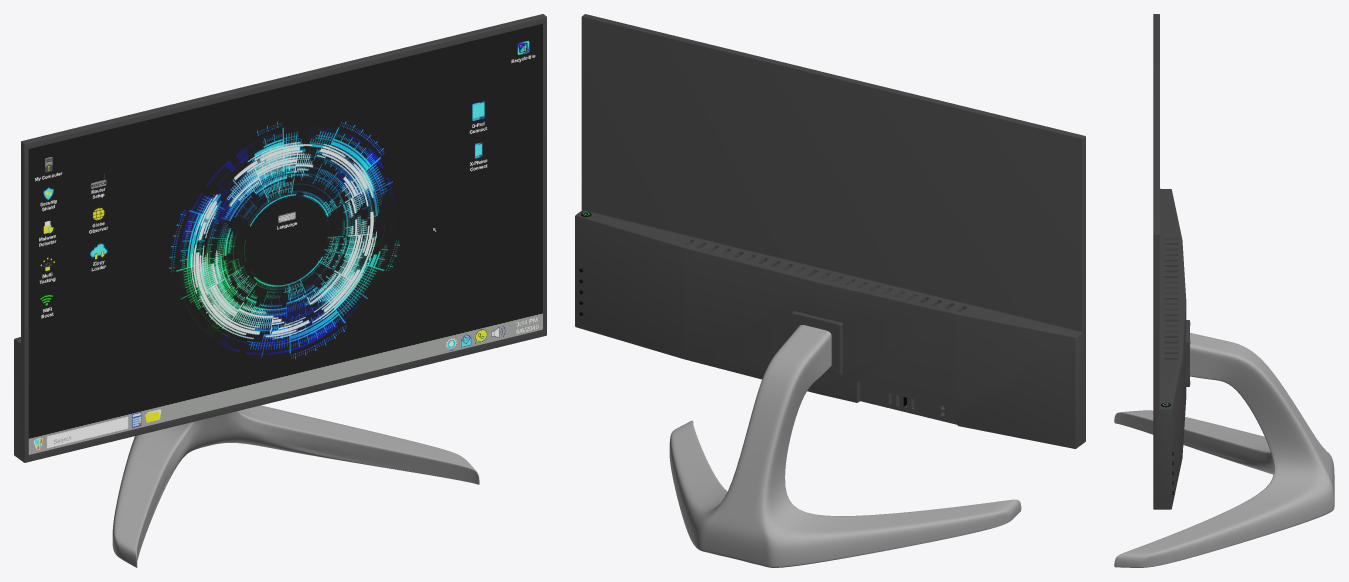
The model's file is monitor.glb.
The picture shows the model from 3 angles, left to right: view 1: azimuth 30°, elevation 25°; view 2: azimuth 150°, elevation 25°; view 3: azimuth 270°, elevation 25°; orthographic projection. The views are drawn at different scales.
Parts seen in each view (by area): view 1: monitor_screen_front_3, monitor_stand_4, monitor_body_12; view 2: monitor_body_12, monitor_stand_4, monitor_back_plate_2; view 3: monitor_stand_4, monitor_body_12, monitor_ventilation_holes_5, monitor_back_plate_2.
Boxes of the visible parts, x1,y1,x2,y2 form: monitor_screen_front_3: (28, 23, 542, 454); monitor_stand_4: (112, 405, 479, 567); monitor_body_12: (14, 14, 546, 462); monitor_body_12: (575, 14, 1085, 448); monitor_stand_4: (669, 325, 1021, 567); monitor_back_plate_2: (790, 311, 842, 375); monitor_stand_4: (1114, 333, 1334, 567); monitor_body_12: (1153, 14, 1186, 509); monitor_ventilation_holes_5: (1164, 238, 1178, 359); monitor_back_plate_2: (1185, 320, 1189, 386).
Size of the model in its own units: 0.6651 by 0.5229 by 0.2807.
9 materials, 1 textured.
